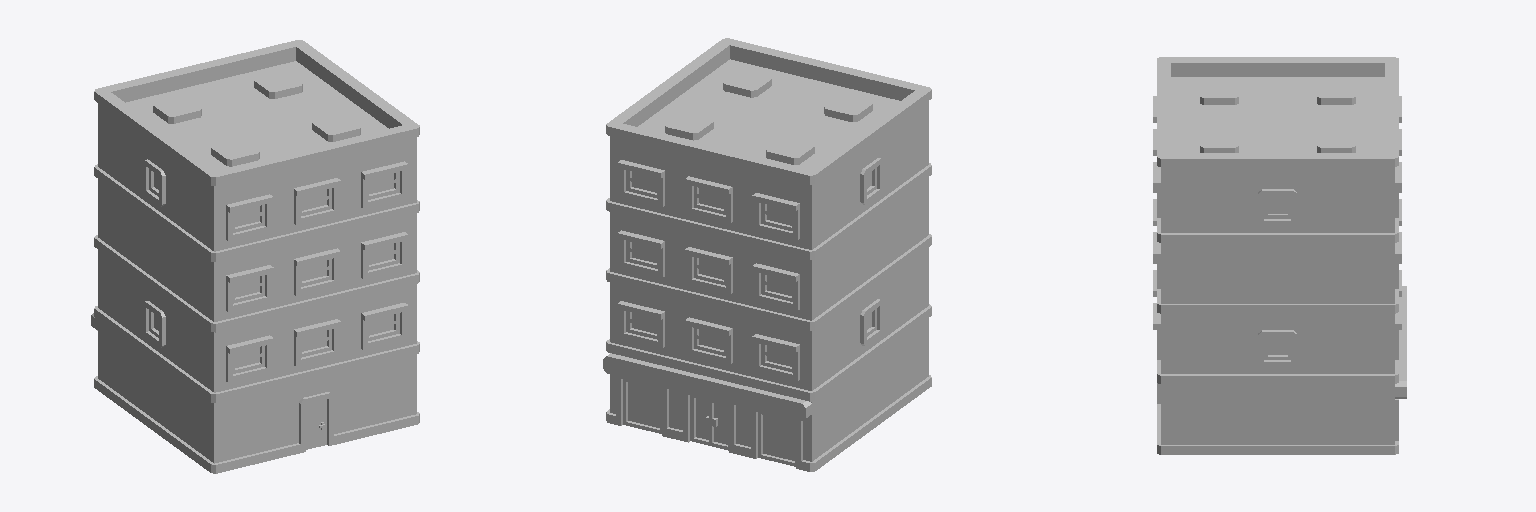
Rendered from commercial_building-i.obj.
3 renders of one model, left to right at view 1: azimuth 30°, elevation 25°; view 2: azimuth 150°, elevation 25°; view 3: azimuth 270°, elevation 25°, orthographic.
Visible parts, largest first — view 1: building-i; view 2: building-i; view 3: building-i.
Boxes of the visible parts, x1,y1,x2,y2 form: building-i: [91, 40, 419, 473]; building-i: [603, 38, 931, 471]; building-i: [1153, 57, 1406, 454].
Bounding box in the file's own units: 1.24 × 1.68 × 1.3.